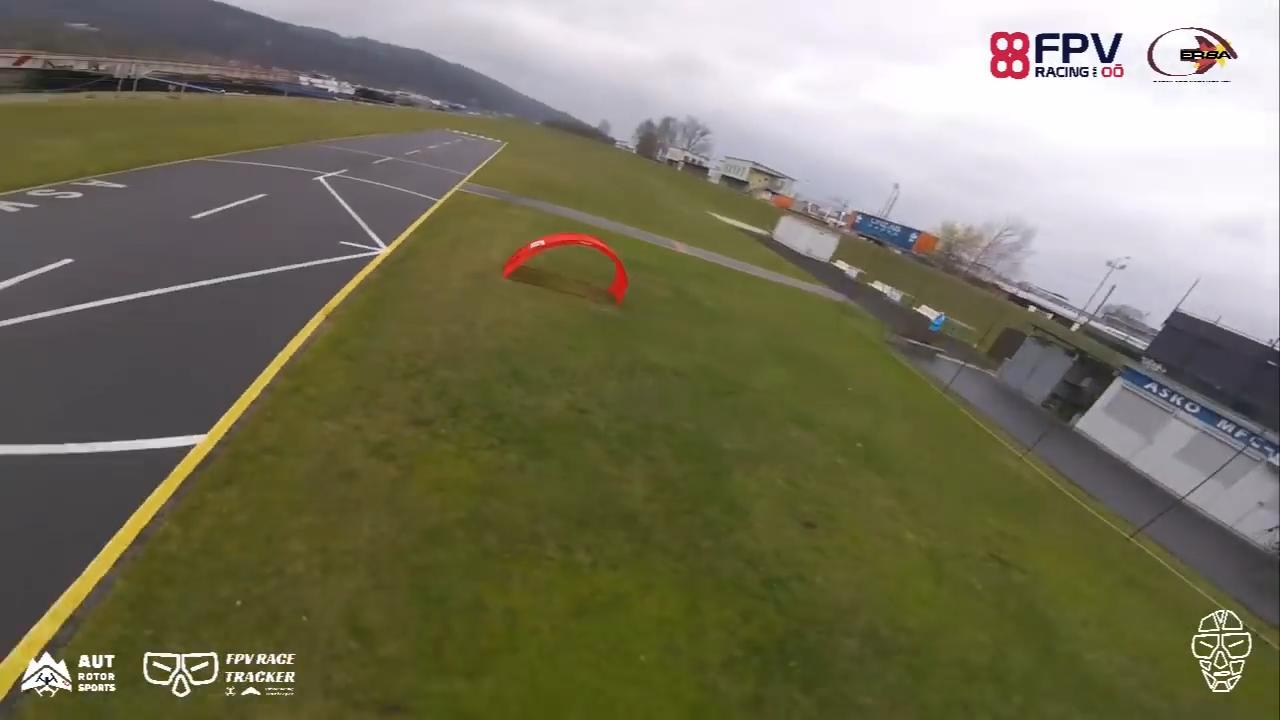gate: (500, 229, 629, 303)
